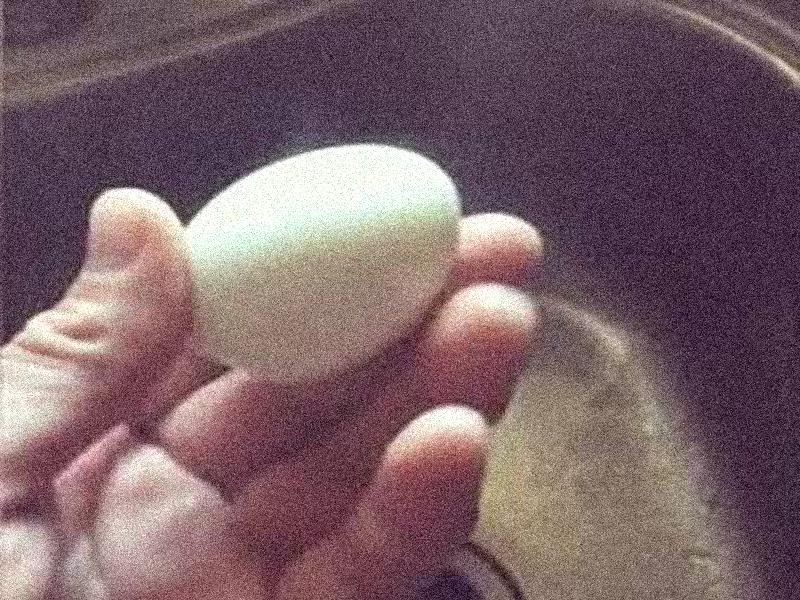Eggs: (182, 144, 461, 379)
